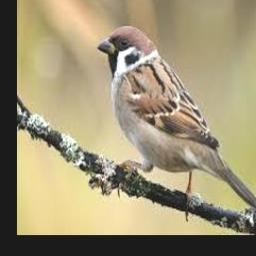Sparrow: (97, 26, 256, 217)
